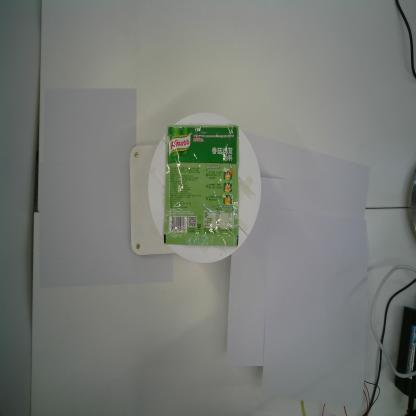Seasoner: (162, 125, 240, 248)
